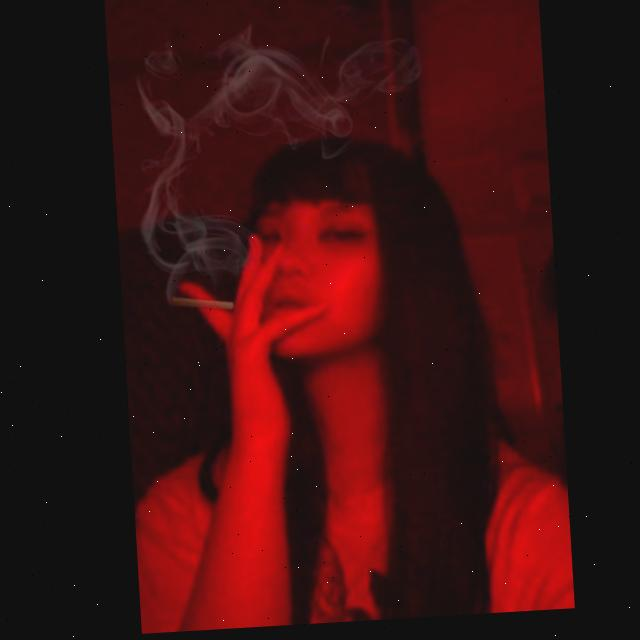cigarette: (167, 297, 228, 314)
